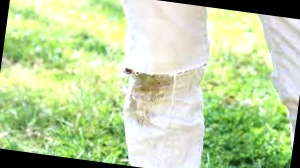earth: (127, 70, 166, 129)
